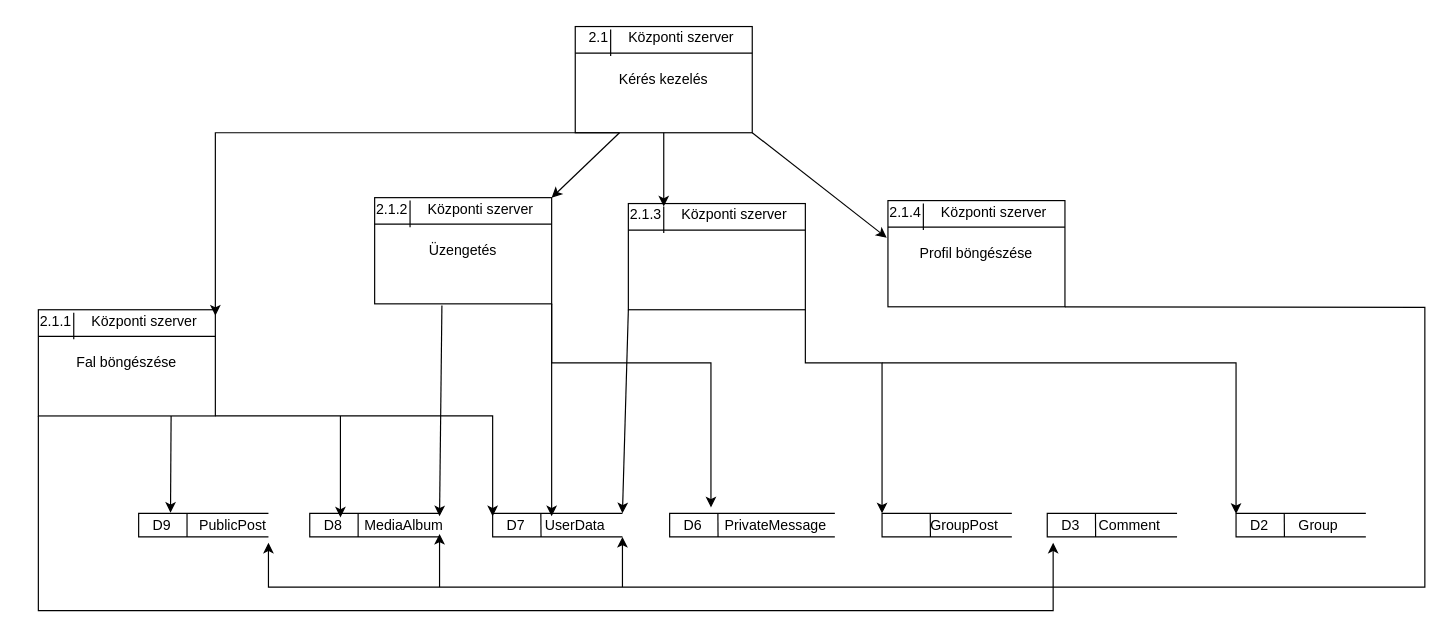
Some shapes in this 1455 by 641 pixel diagram are drawn without their labels. The box of each missing label's shape, as (x1, y1, x2, y2) in pixels:
Csoport böngészése: (627, 202, 805, 310)
D4: (881, 512, 1012, 537)
